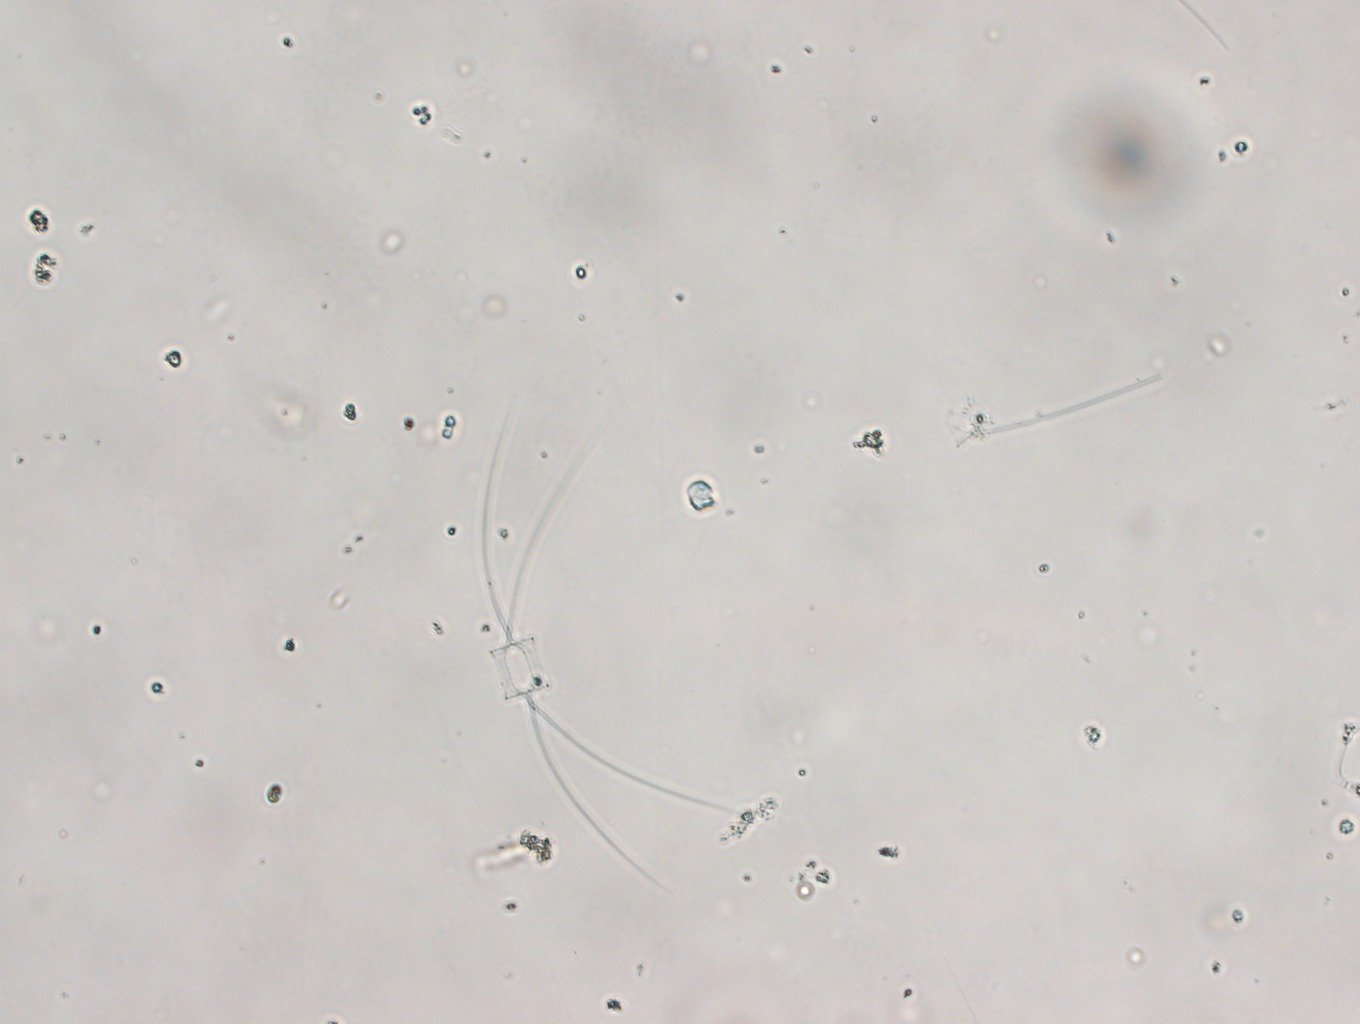chaetoceros: (479, 402, 735, 892)
